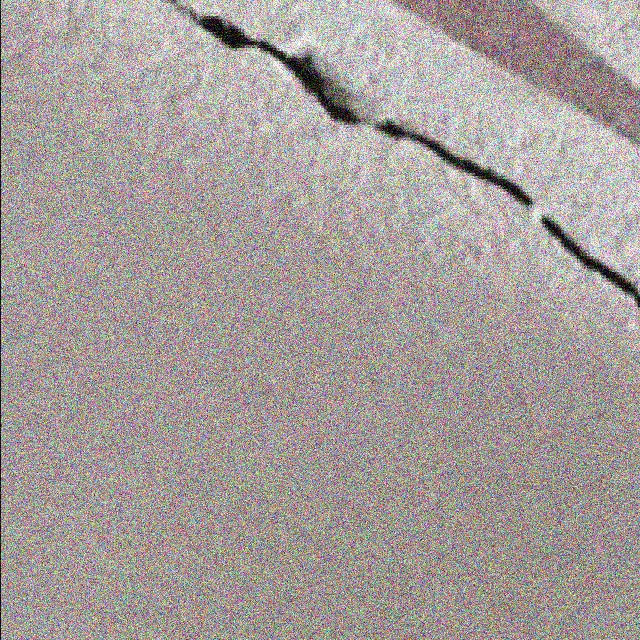SurfaceCrack: (152, 0, 640, 320)
